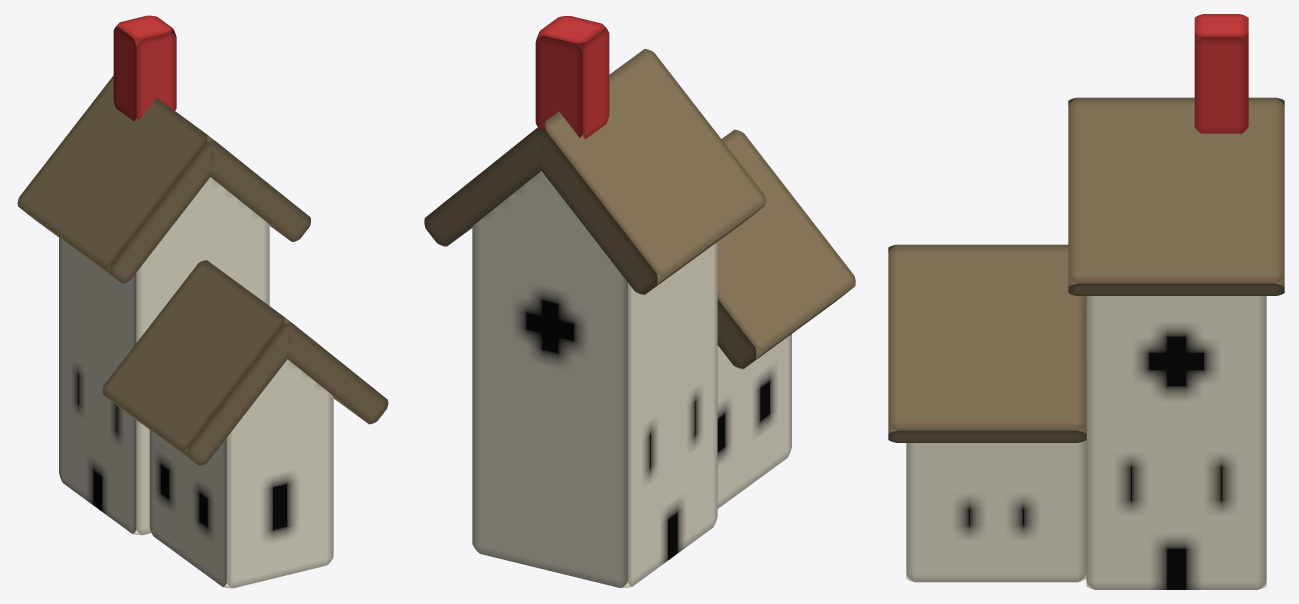
Rendered from FamilyHouse.obj.
3 views of the same model, side by side, from view 1: azimuth 30°, elevation 25°; view 2: azimuth 150°, elevation 25°; view 3: azimuth 270°, elevation 25° (orthographic). The views are drawn at different scales.
Parts seen in each view (by area): view 1: cuboid, roof, cube; view 2: cuboid, roof, cube; view 3: roof, cuboid, cube.
Boxes of the visible parts, x1,y1,x2,y2 form: cuboid: (59,177,333,588); roof: (17,75,388,465); cube: (113,15,176,120); cuboid: (472,171,791,587); roof: (424,49,855,369); cube: (535,16,609,138); roof: (888,97,1284,442); cuboid: (906,296,1266,589); cube: (1194,14,1248,133).
Bounding box in the file's own units: 4.67 × 9.68 × 6.6.
Materials: 1 (1 with a texture image).
